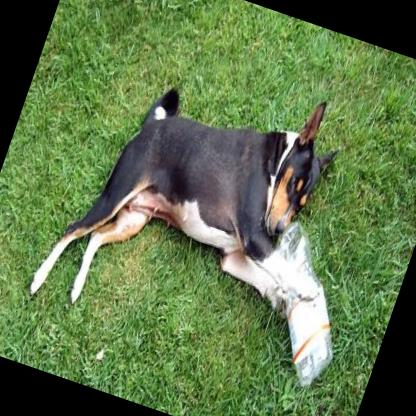basenji: (26, 26, 354, 372)
